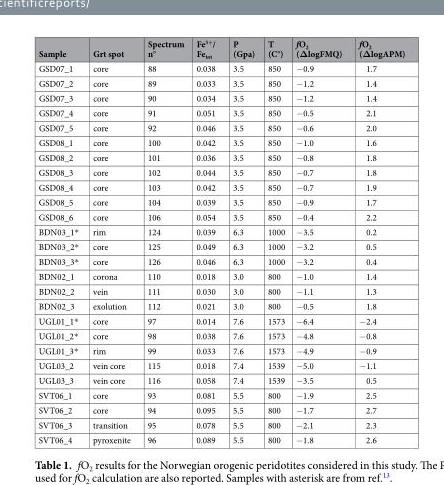table: (37, 37, 404, 445)
table column: (289, 37, 349, 445), (349, 37, 404, 445), (85, 37, 138, 445), (138, 37, 189, 445), (37, 37, 85, 445), (223, 37, 260, 445), (189, 37, 223, 445), (260, 37, 289, 445)
table column header: (37, 37, 404, 60)
table row: (37, 37, 404, 60), (37, 223, 404, 239), (37, 253, 404, 269), (37, 312, 404, 328), (37, 60, 404, 75), (37, 75, 404, 90), (37, 90, 404, 105), (37, 119, 404, 134), (37, 134, 404, 149), (37, 149, 404, 164), (37, 164, 404, 179), (37, 179, 404, 194), (37, 194, 404, 209), (37, 283, 404, 298), (37, 328, 404, 343), (37, 343, 404, 358), (37, 372, 404, 387), (37, 387, 404, 402), (37, 402, 404, 417), (37, 417, 404, 432), (37, 105, 404, 119), (37, 209, 404, 223), (37, 239, 404, 253), (37, 269, 404, 283), (37, 298, 404, 312), (37, 358, 404, 372), (37, 432, 404, 445)
